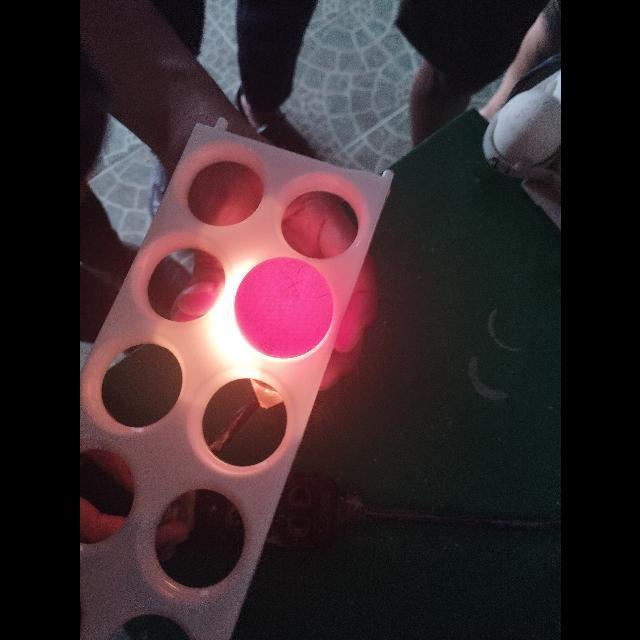Infertile: (239, 262, 327, 358)
